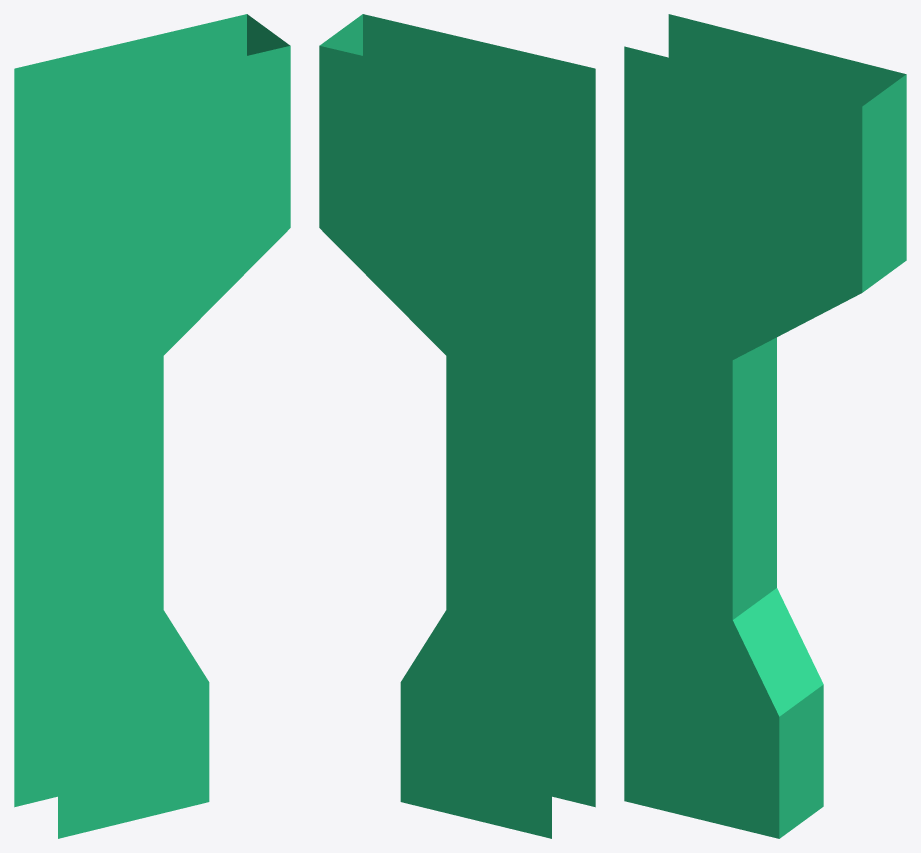
File: ColWallPillar.fbx
The picture shows the model from 3 angles, left to right: view 1: azimuth 30°, elevation 25°; view 2: azimuth 150°, elevation 25°; view 3: azimuth 330°, elevation 25°; orthographic projection. The views are drawn at different scales.
Visible parts, largest first — view 1: ColWallPillar; view 2: ColWallPillar; view 3: ColWallPillar.
Boxes of the visible parts, box(x1,y1,x2,y2) form: ColWallPillar: box(14, 14, 290, 838); ColWallPillar: box(319, 14, 595, 838); ColWallPillar: box(624, 14, 906, 838).
Bounding box in the file's own units: 98.89 × 300 × 31.92.
